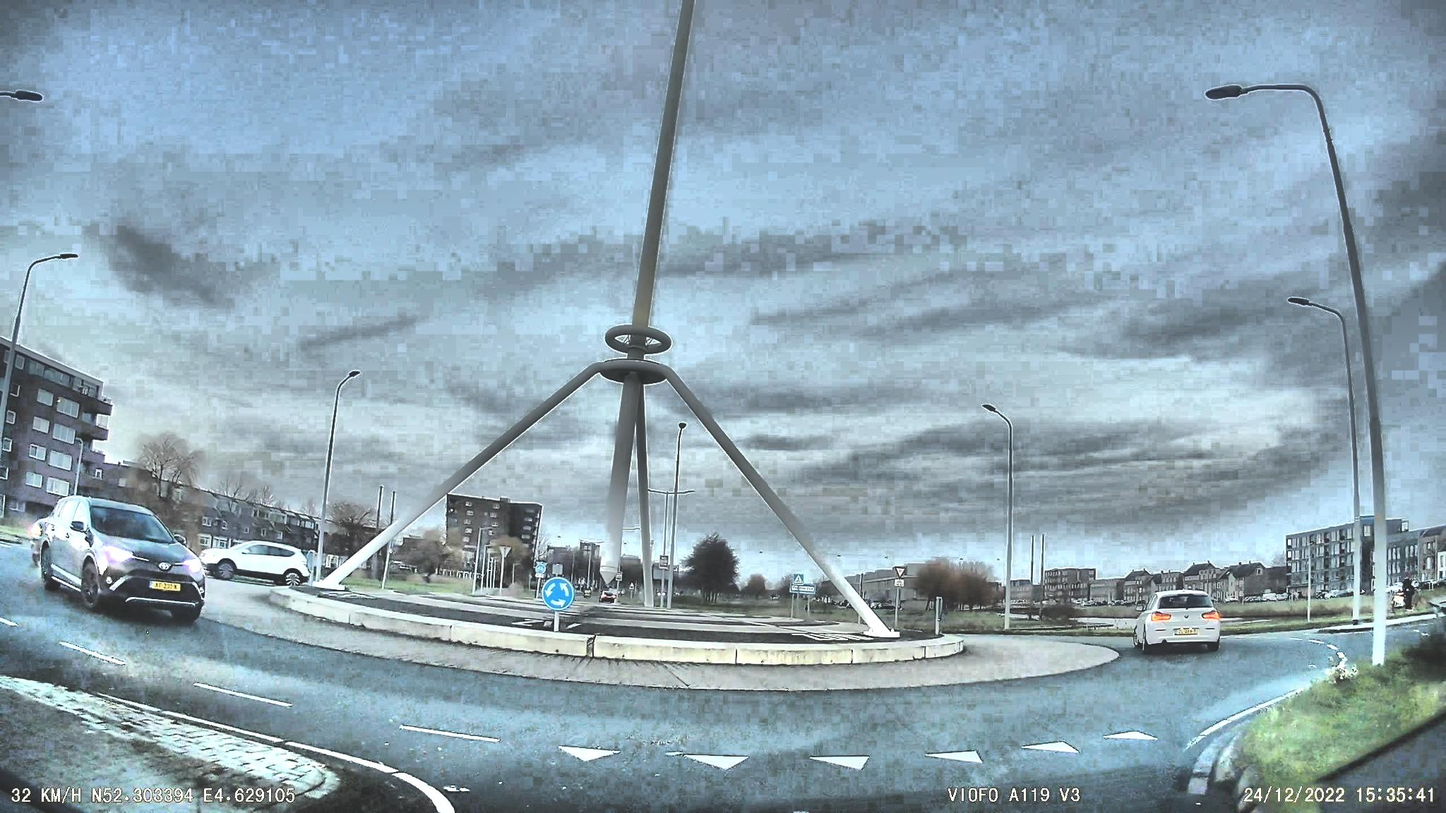Roads: (0, 544, 1390, 813)
